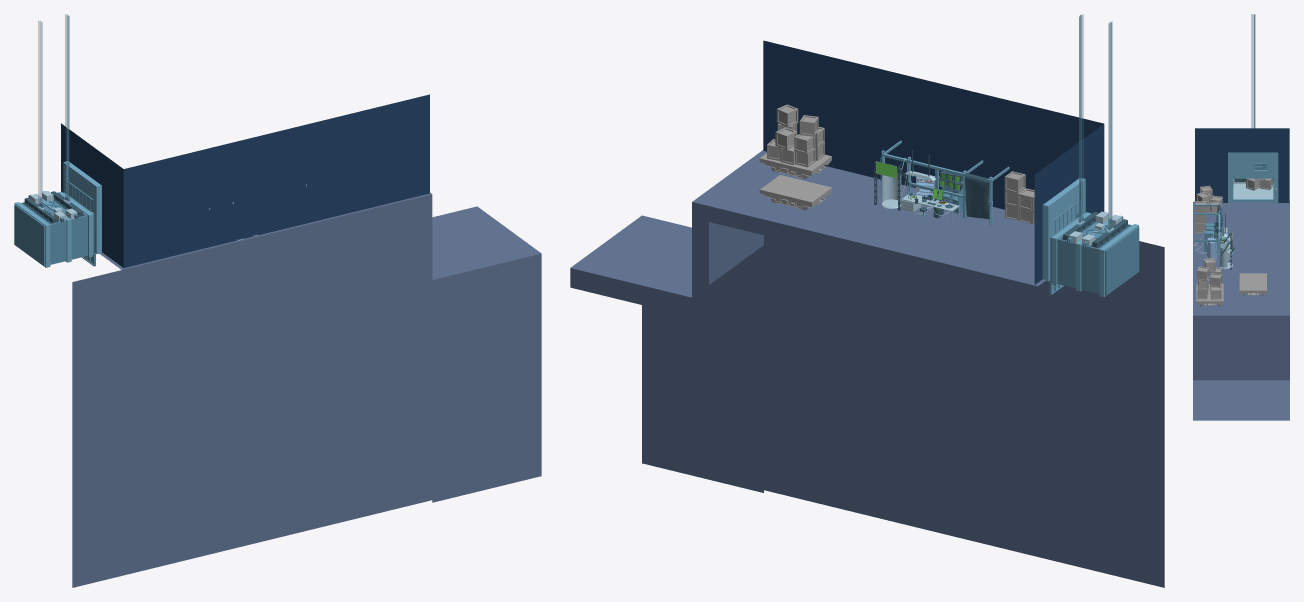
File: Test_decor.fbx
The picture shows the model from 3 angles, left to right: view 1: azimuth 30°, elevation 25°; view 2: azimuth 150°, elevation 25°; view 3: azimuth 270°, elevation 25°; orthographic projection. The views are drawn at different scales.
Parts seen in each view (by area): view 1: Sol, Elevator, pPlane9, pPlane5, pPlane11, pPlane4, pPlane10, pPlane6, pPlane7, pPlane8, pPlane1, pPlane2; view 2: Sol, Elevator, Workshop_1_op, pPlane9, pPlane8, pPlane10, pPlane7, pPlane6, pPlane11, pPlane5, pPlane2, pPlane1 (+2 smaller); view 3: Sol, Elevator, pPlane1, pPlane2, Workshop_1_op, pCube103 (×2), pCube116, pCube128, pCube84, pCube88, pCube125, pCube123.
Part boxes in pixels (box(x1,y1,x2,y2)): Sol: box(72, 193, 541, 587); Elevator: box(14, 14, 101, 267); pPlane9: box(315, 113, 353, 221); pPlane5: box(162, 150, 200, 258); pPlane11: box(391, 94, 429, 202); pPlane4: box(123, 160, 161, 267); pPlane10: box(353, 104, 391, 211); pPlane6: box(238, 132, 276, 239); pPlane7: box(200, 141, 238, 249); pPlane8: box(277, 122, 314, 230); pPlane1: box(101, 153, 123, 267); pPlane2: box(61, 123, 101, 192); Sol: box(570, 150, 1164, 587); Elevator: box(1042, 14, 1139, 297); Workshop_1_op: box(874, 150, 992, 224); pPlane9: box(848, 61, 891, 179); pPlane8: box(891, 71, 933, 187); pPlane10: box(806, 51, 848, 171); pPlane7: box(976, 92, 1019, 209); pPlane6: box(934, 82, 976, 193); pPlane11: box(763, 40, 805, 151); pPlane5: box(1019, 103, 1061, 190); pPlane2: box(1034, 142, 1079, 284); pPlane1: box(1080, 124, 1104, 213); Sol: box(1193, 201, 1289, 420); Elevator: box(1228, 14, 1278, 203); pPlane1: box(1195, 128, 1228, 202); pPlane2: box(1228, 128, 1289, 202); Workshop_1_op: box(1194, 202, 1234, 269); pCube103 (×2): box(1196, 273, 1266, 304); pCube116: box(1197, 266, 1209, 281); pCube128: box(1210, 273, 1221, 287); pCube84: box(1246, 178, 1260, 190); pCube88: box(1196, 191, 1210, 204); pCube125: box(1210, 287, 1221, 299); pCube123: box(1203, 258, 1215, 271).
Bounding box in the file's own units: 3701 × 4027 × 875.
